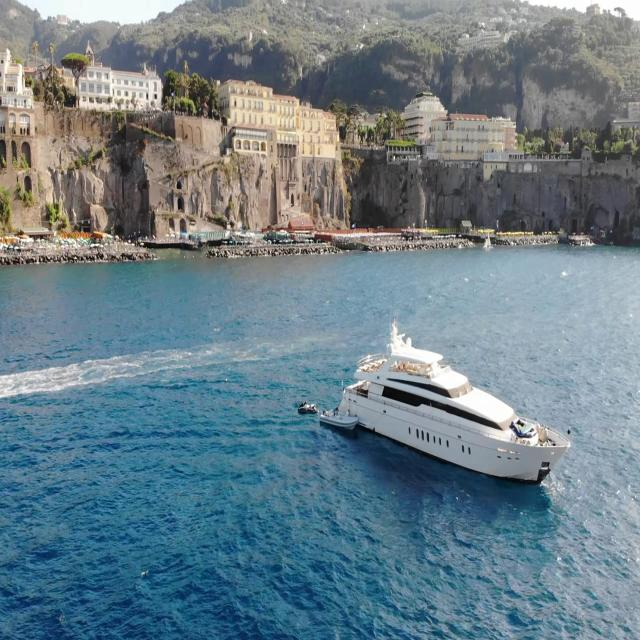boat: (340, 310, 570, 487), (320, 403, 358, 435), (298, 394, 320, 416)
